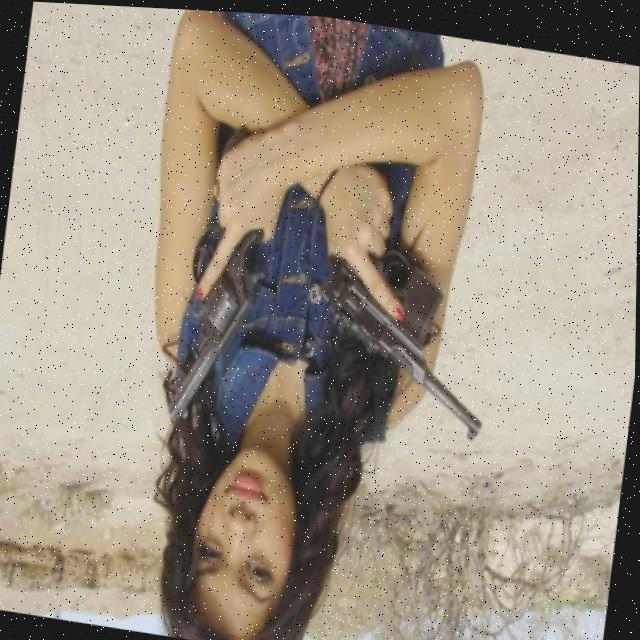pistol: (309, 229, 501, 435), (166, 209, 269, 427)
